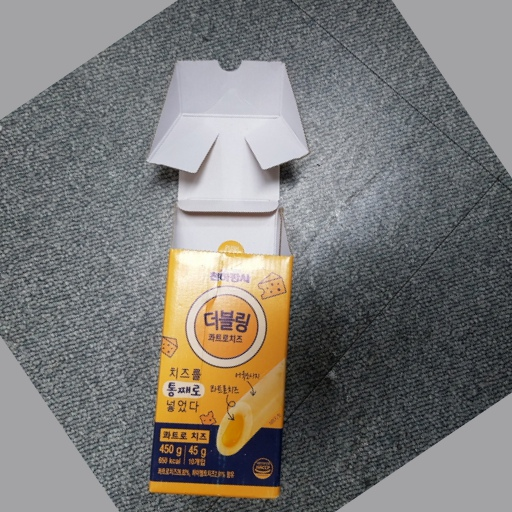Paper_0: (144, 51, 308, 501)
